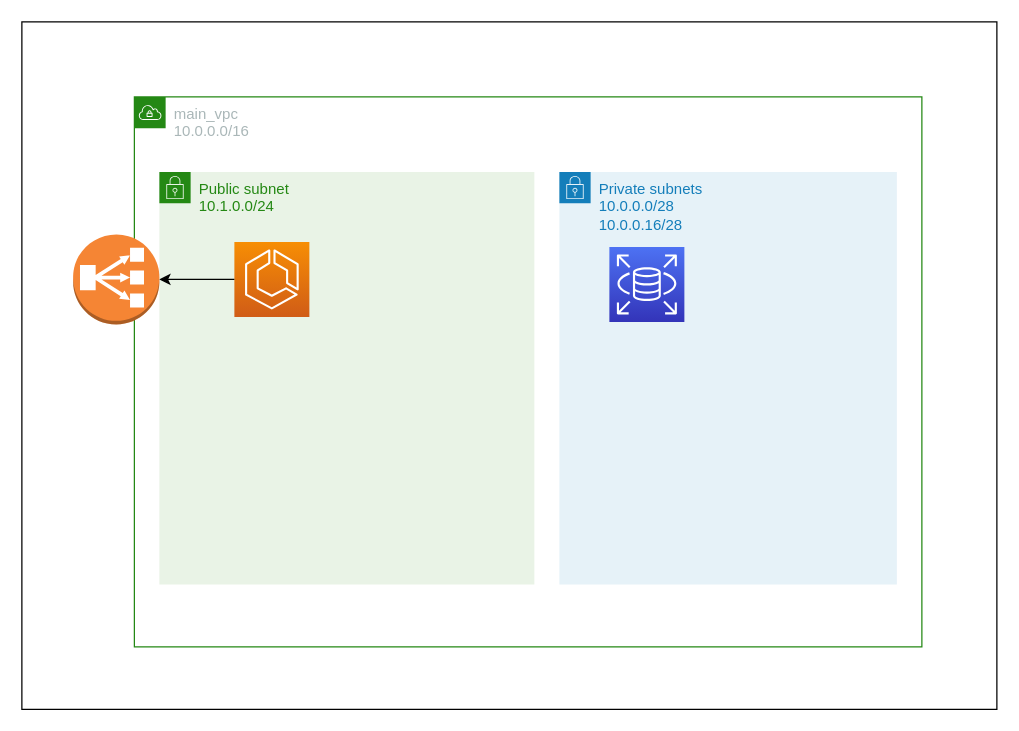
Image size: 1019x731. Some labels were removed from this diagram. Each missing label, with the centre of its shape:
"ECS Cluster" goes at point (271, 279).
"sql-01" goes at point (646, 284).
